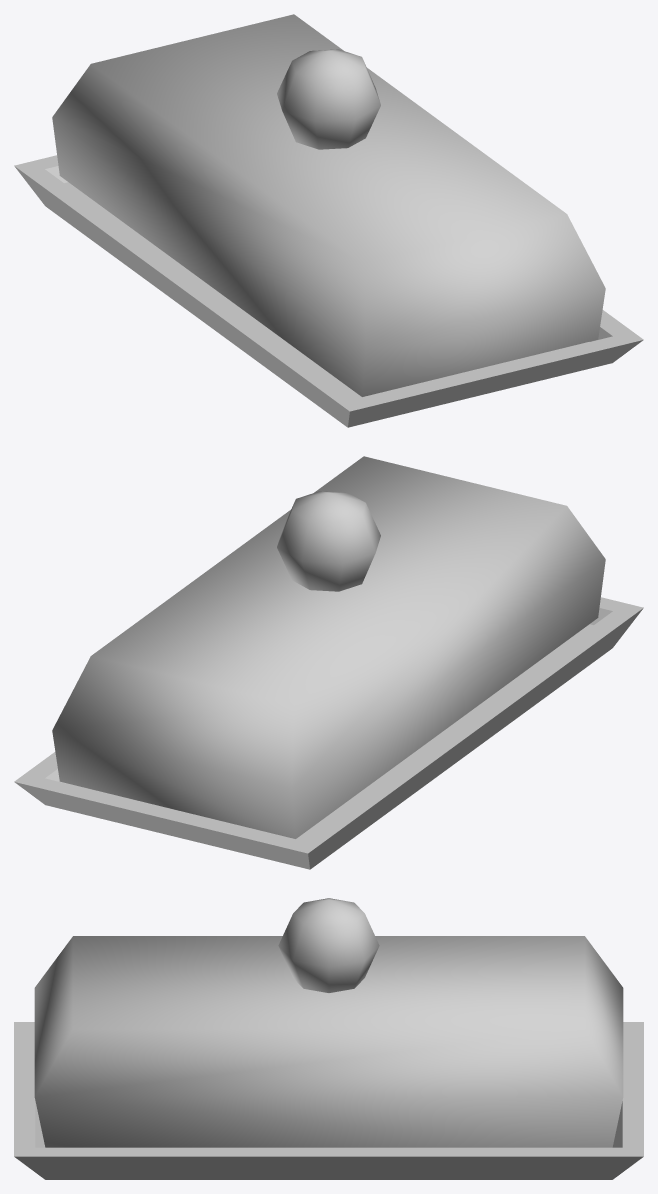
File: Butter_Dish_A.FBX
3 renders of one model, top to bottom at view 1: azimuth 30°, elevation 25°; view 2: azimuth 150°, elevation 25°; view 3: azimuth 270°, elevation 25°, orthographic. The views are drawn at different scales.
Visible parts, largest first — view 1: Butter_Dish; view 2: Butter_Dish; view 3: Butter_Dish.
Boxes of the visible parts, x1,y1,x2,y2 form: Butter_Dish: (14, 14, 643, 427); Butter_Dish: (14, 456, 643, 869); Butter_Dish: (14, 898, 643, 1179).
Bounding box in the file's own units: 31.09 × 23.64 × 61.51.
